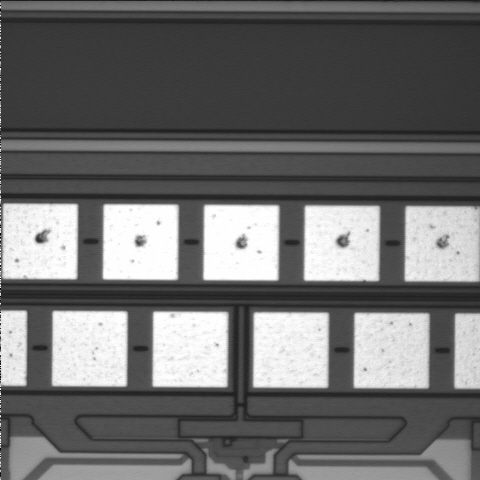pad: (103, 204, 179, 280), (203, 205, 279, 281), (253, 312, 329, 388), (2, 204, 78, 279), (304, 206, 380, 281), (52, 311, 127, 387), (152, 312, 228, 387), (354, 313, 429, 388)
